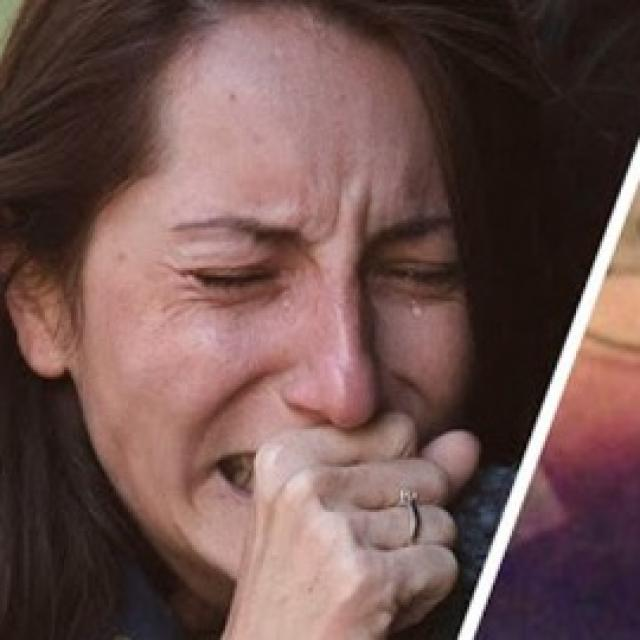Depress: (73, 8, 488, 638)
